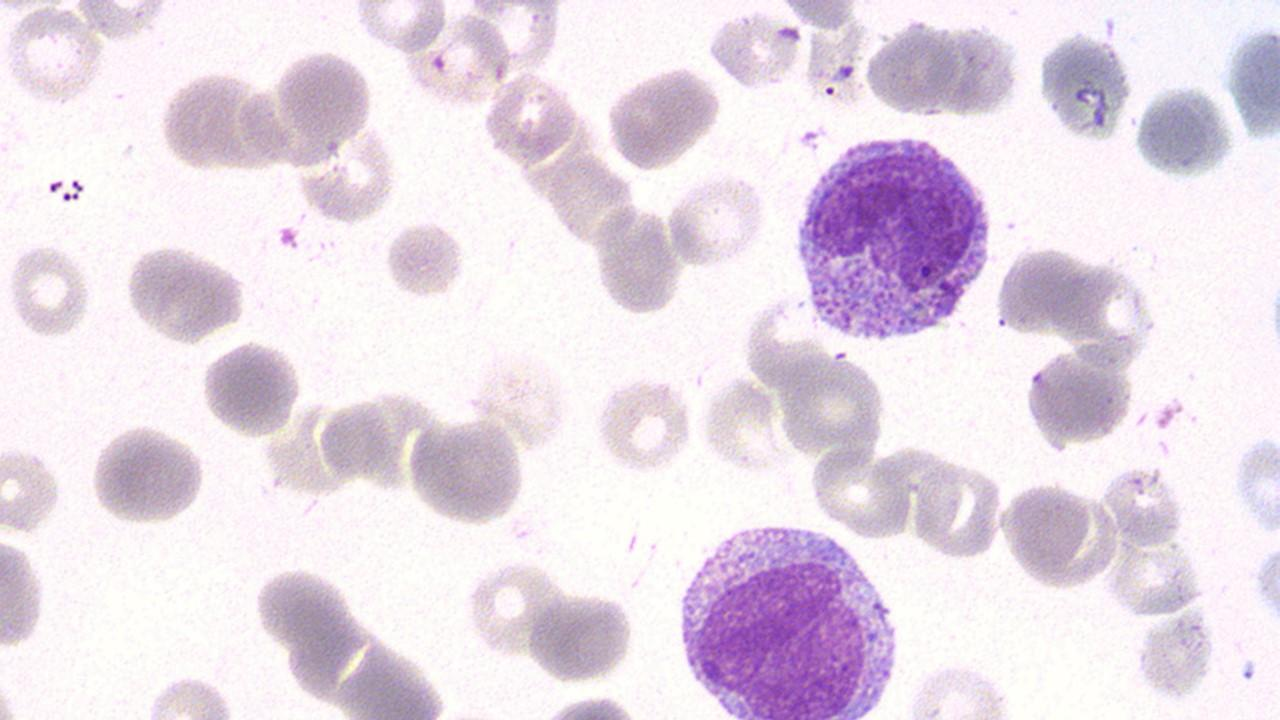Platelets: (87, 423, 207, 524), (1035, 29, 1131, 144), (196, 339, 300, 439), (1130, 82, 1232, 181), (1130, 610, 1218, 702), (1223, 24, 1280, 139), (382, 220, 466, 296), (1231, 433, 1280, 538), (1152, 395, 1184, 431), (1267, 276, 1280, 362), (275, 224, 304, 250), (794, 126, 820, 149), (772, 23, 801, 43), (1161, 393, 1187, 415), (1240, 654, 1260, 682), (808, 122, 830, 138), (1103, 14, 1117, 39), (46, 178, 65, 195)
RBC: (122, 238, 243, 346), (406, 417, 526, 525), (89, 422, 212, 526), (1043, 253, 1155, 365), (602, 65, 720, 170), (779, 350, 890, 460), (1020, 348, 1133, 449), (403, 8, 512, 110), (292, 123, 400, 225), (198, 336, 304, 439), (0, 5, 107, 107), (527, 588, 637, 686), (592, 373, 694, 478), (696, 377, 802, 478), (468, 350, 574, 450), (664, 169, 770, 269), (159, 69, 260, 172), (738, 292, 838, 393), (912, 457, 1008, 562), (592, 203, 680, 316), (1000, 476, 1090, 586), (464, 559, 562, 660), (862, 17, 958, 120), (808, 445, 912, 538), (1099, 533, 1207, 620), (276, 47, 374, 142), (545, 152, 638, 252), (480, 70, 577, 164), (5, 239, 93, 342), (704, 7, 800, 93), (1098, 462, 1186, 550), (900, 656, 1024, 716), (383, 218, 468, 300), (1224, 18, 1278, 146), (317, 394, 394, 483), (1, 532, 48, 653), (350, 0, 449, 57), (0, 446, 63, 534), (774, 0, 865, 32)
WBC: (434, 0, 1270, 464), (837, 0, 1280, 708), (671, 510, 911, 716), (788, 128, 998, 350), (1001, 285, 1155, 502), (1020, 348, 1134, 450), (1034, 30, 1136, 142), (861, 17, 964, 121), (1130, 79, 1236, 180), (702, 7, 807, 92), (1223, 18, 1280, 146), (1250, 523, 1280, 639)
